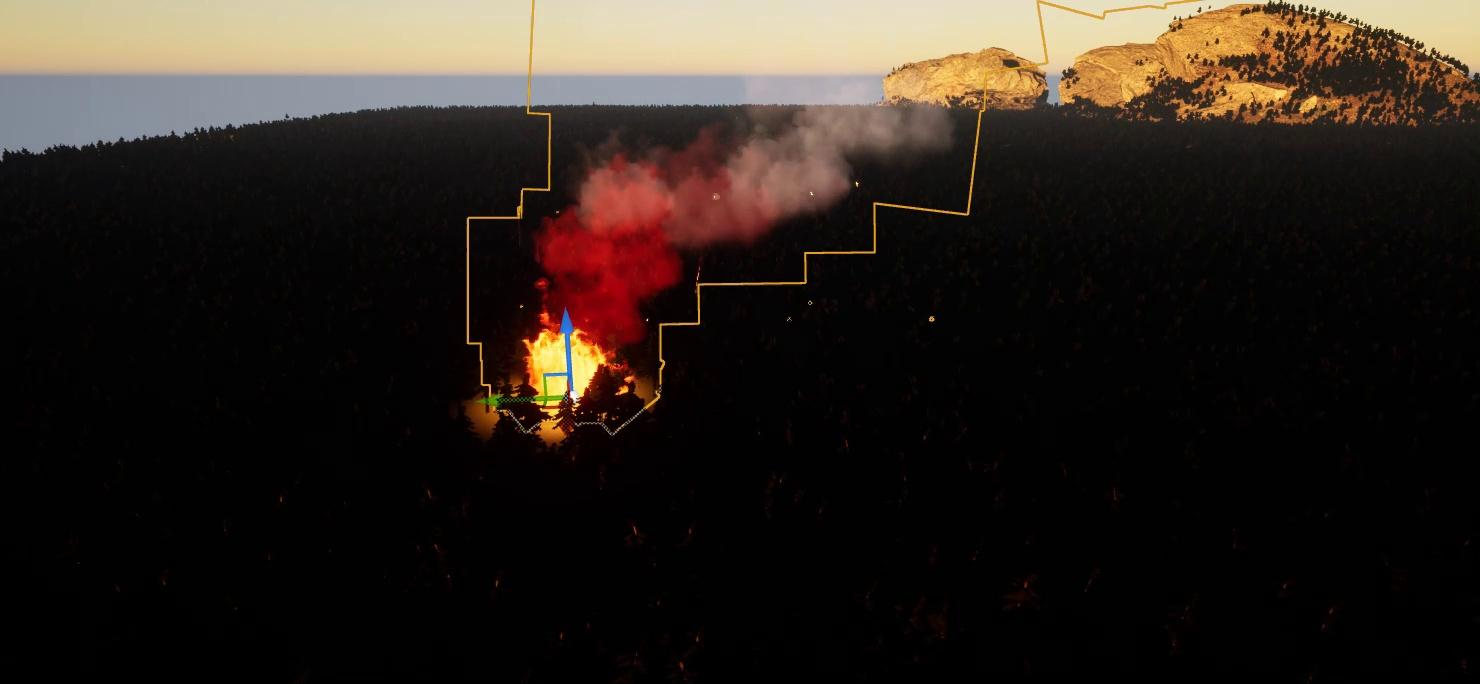fire: (525, 334, 608, 411)
smoke: (541, 77, 971, 334)
